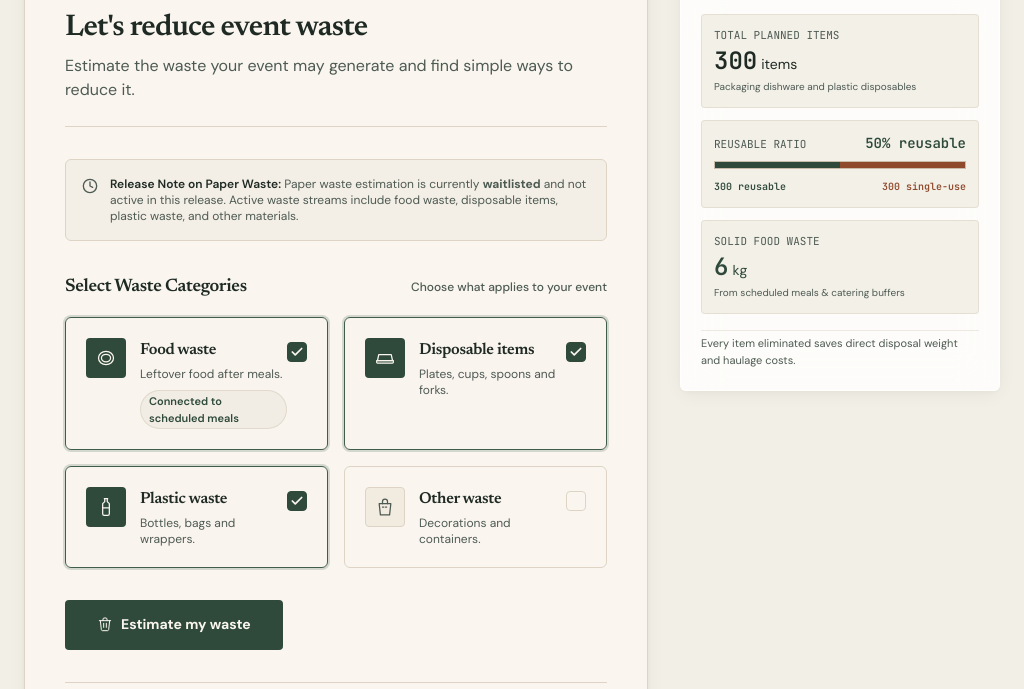
Test: Waste Planning Page (Step 5 - Simplified MVP UX) › validates that at least one category must be selected before estimating
The width and height of the screenshot is (1024, 689).
(page scrolled)
Click the button "Food waste" at (196, 384), box [65,317,328,450]
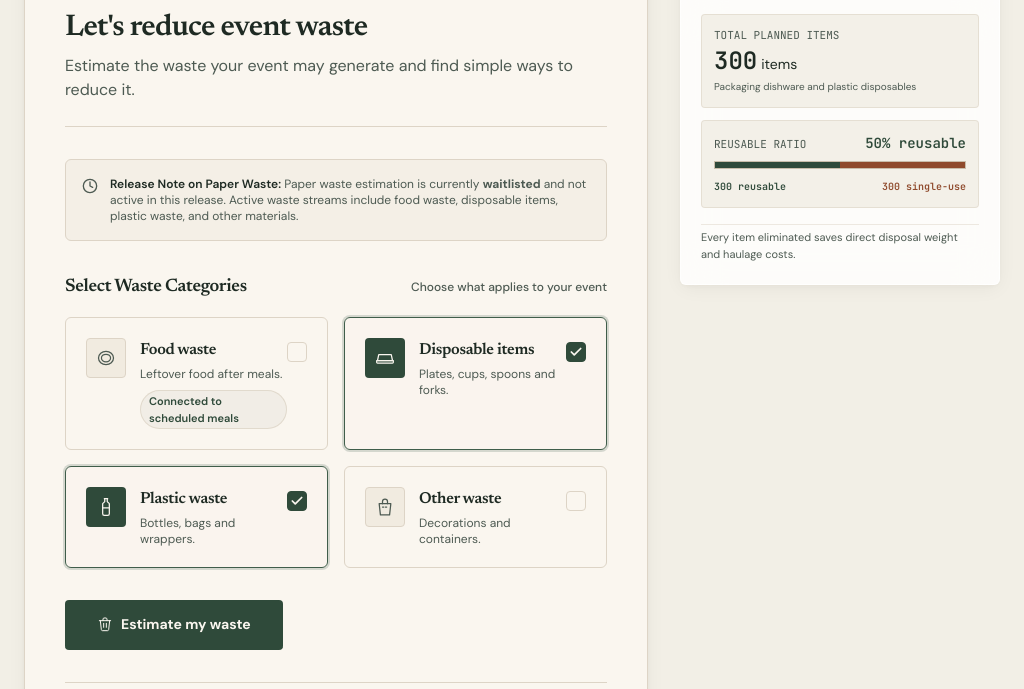
Click the button "Disposable items Plates, cups, spoons and forks." at (476, 384), box [344,317,607,450]
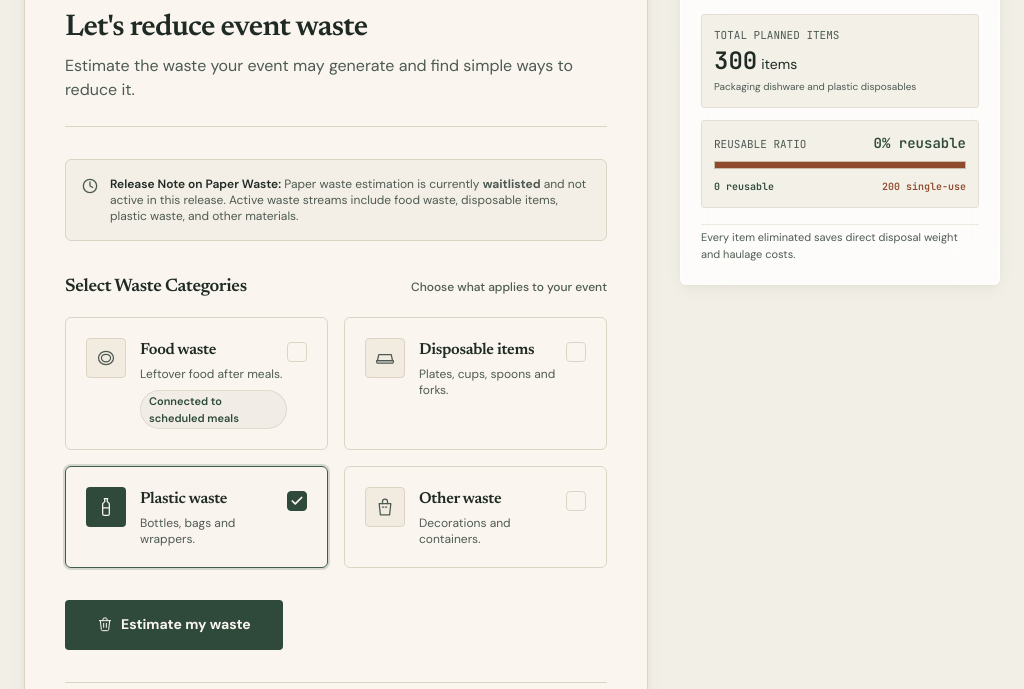
Click the button "Plastic waste Bottles, bags and wrappers." at (196, 517), box [65,466,328,568]
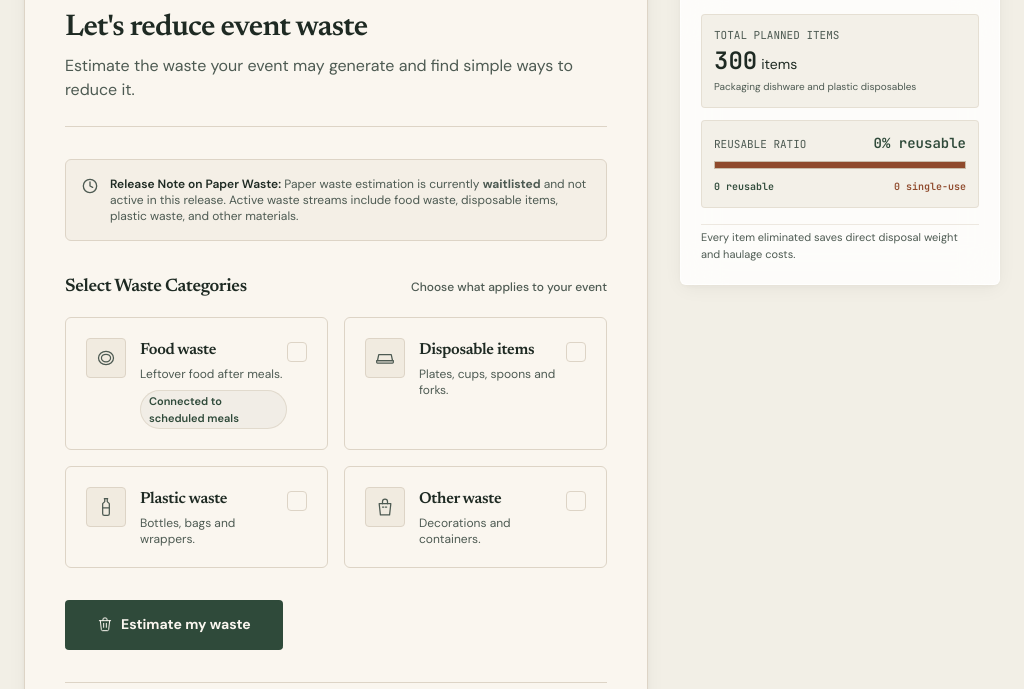
Click the button "Estimate my waste" at (174, 625), box [65,600,283,650]
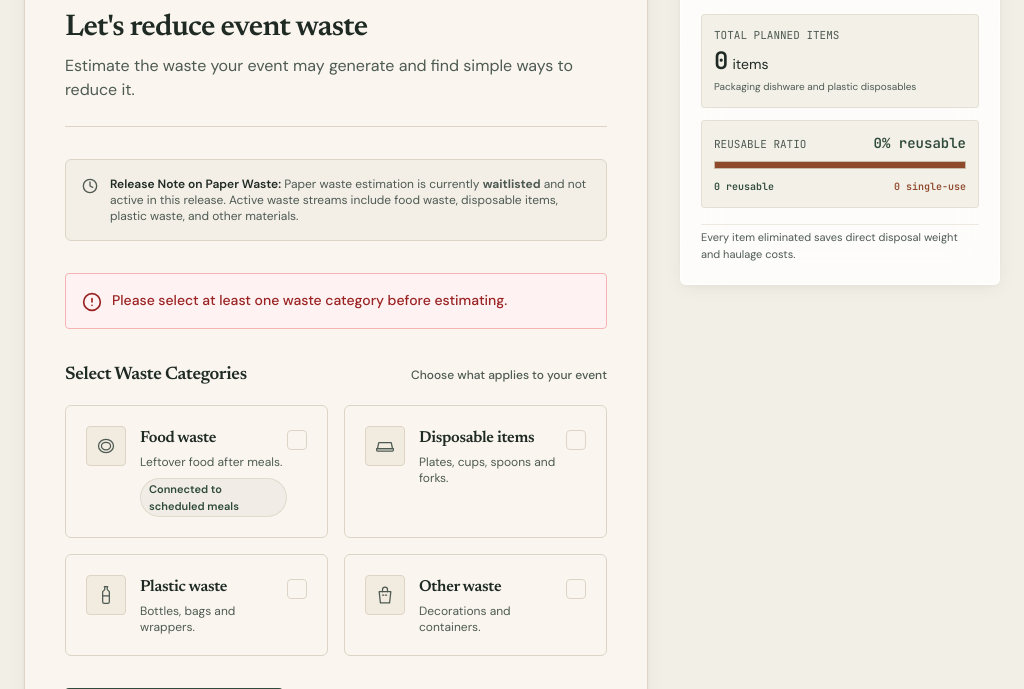
Now the message "Please select at least one waste category before estimating." is shown, box [65,273,607,329]
Now the text "Please select at least one waste category before estimating." is shown, box [112,290,507,310]
